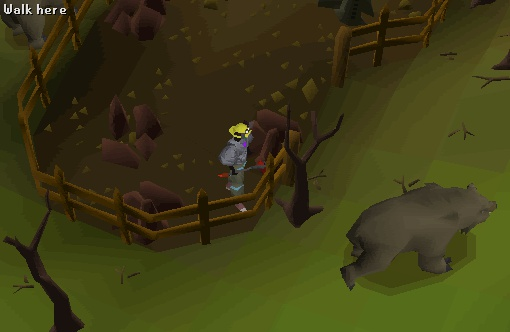iron: (86, 87, 175, 176)
